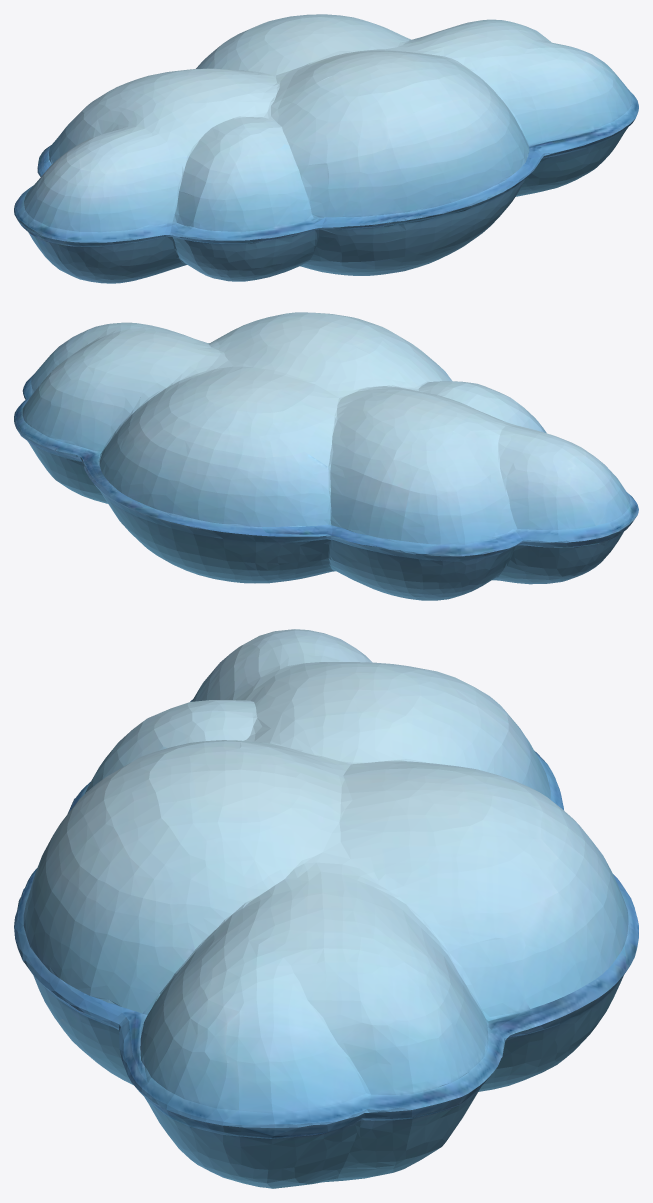
The model's file is cloud_floor.glb.
3 renders of one model, top to bottom at view 1: azimuth 30°, elevation 25°; view 2: azimuth 150°, elevation 25°; view 3: azimuth 270°, elevation 25°, orthographic. The views are drawn at different scales.
Parts seen in each view (by area): view 1: world.001; view 2: world.001; view 3: world.001.
Boxes of the visible parts, x1,y1,x2,y2 form: world.001: [14, 14, 638, 283]; world.001: [14, 312, 638, 600]; world.001: [14, 629, 638, 1188].
Size of the model in its own units: 1 by 0.3152 by 0.5839.
1 material, 1 textured.
